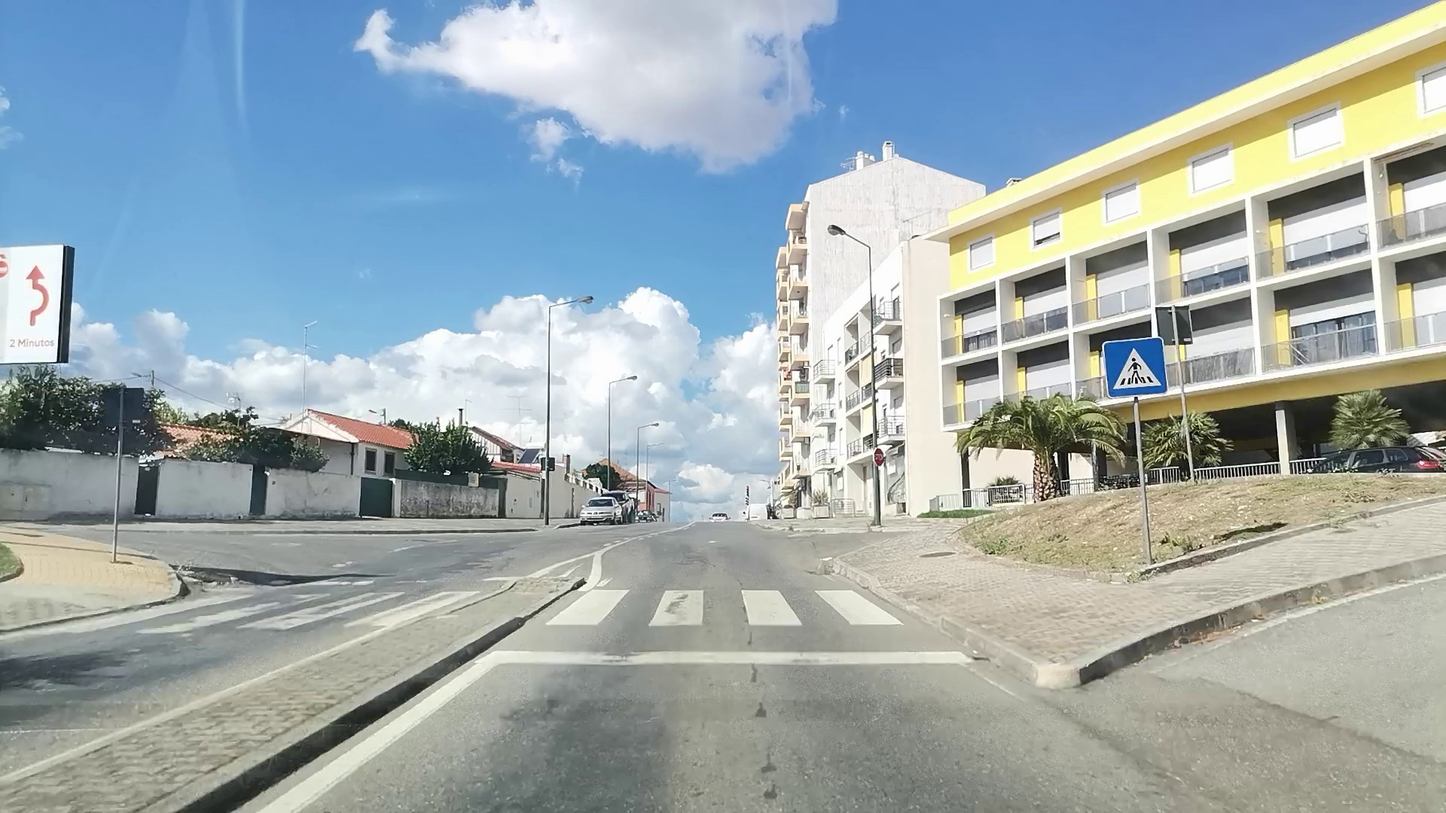Stairs: (33, 583, 468, 634), (544, 587, 902, 632)
